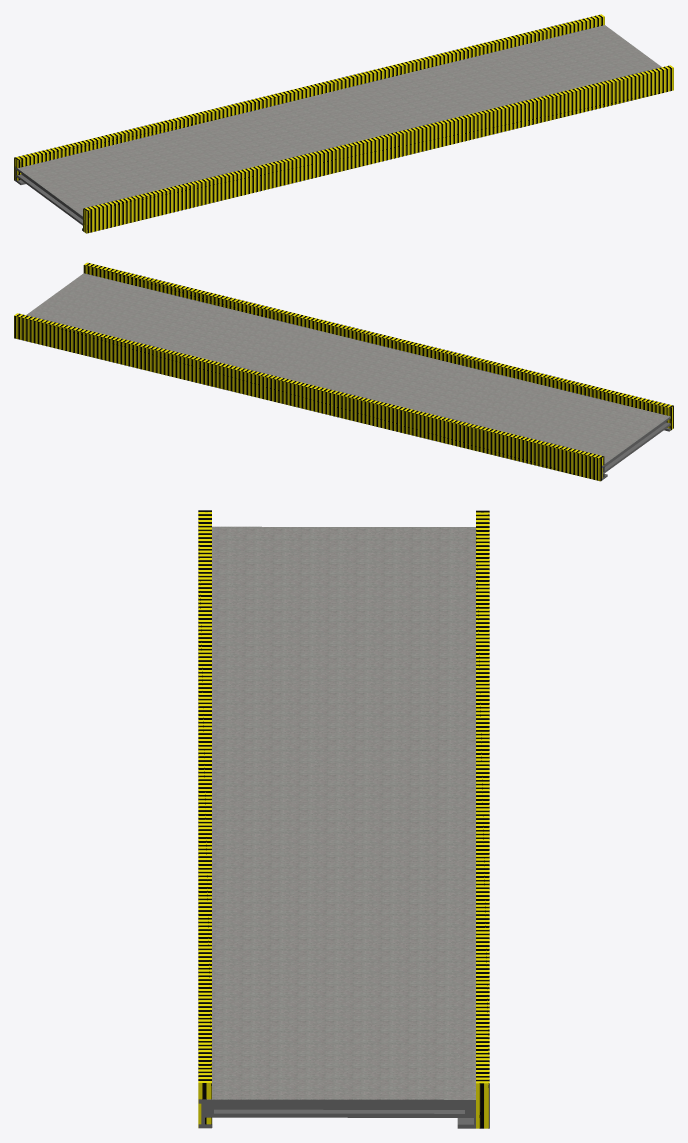
Rendered from balança.fbx.
3 renders of one model, top to bottom at view 1: azimuth 30°, elevation 25°; view 2: azimuth 150°, elevation 25°; view 3: azimuth 270°, elevation 25°, orthographic. The views are drawn at different scales.
Parts seen in each view (by area): view 1: Balan_a1, Componente_8_2, Componente_8_1; view 2: Balan_a1, Componente_8_1, Componente_8_2; view 3: Balan_a1, Componente_8_1, Componente_8_2.
Boxes of the visible parts, x1,y1,x2,y2 form: Balan_a1: (15,25,661,230); Componente_8_2: (83,65,673,233); Componente_8_1: (14,14,604,180); Balan_a1: (26,273,670,480); Componente_8_1: (14,313,604,481); Componente_8_2: (83,262,673,430); Balan_a1: (198,526,475,1128); Componente_8_1: (476,510,489,1128); Componente_8_2: (198,510,211,1127).
Size of the model in its own units: 14911 by 550 by 3200.
